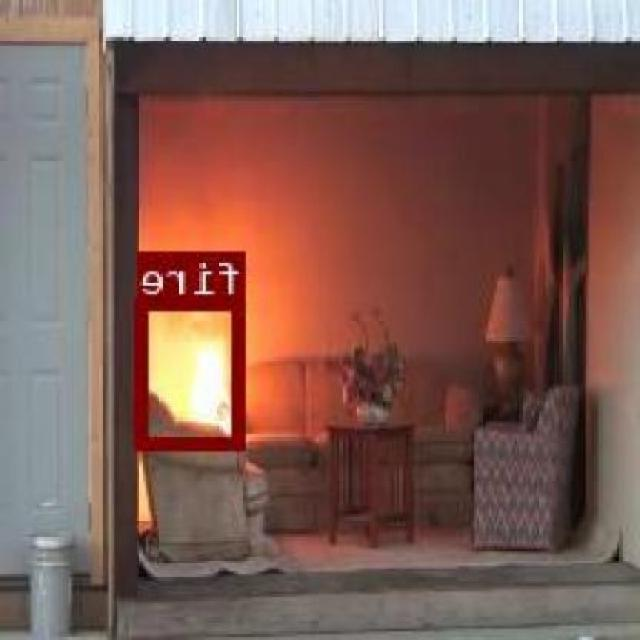Fire: (138, 295, 250, 448)
